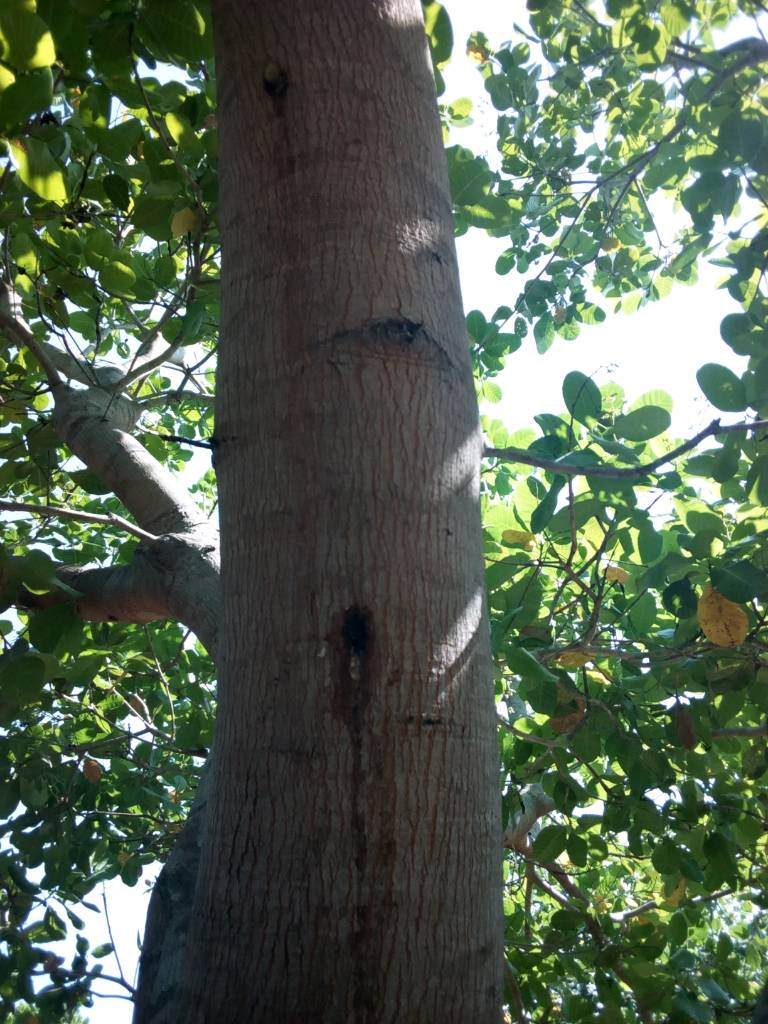Apate terebrans: (315, 574, 428, 686)
